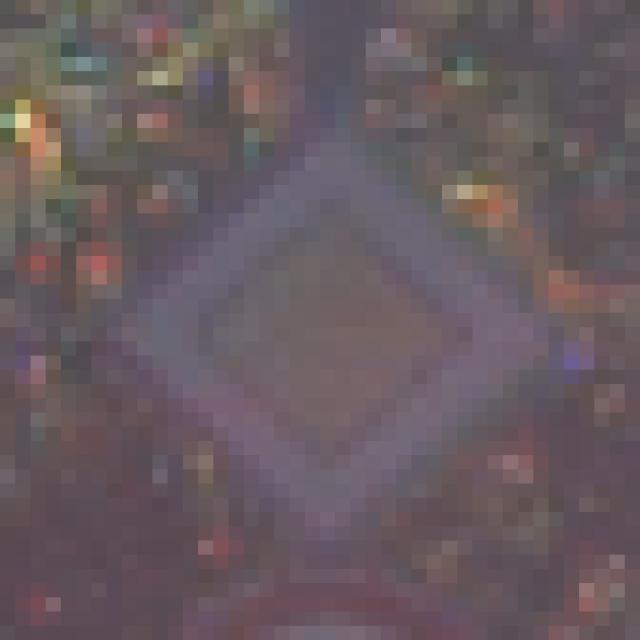Main Road: (93, 86, 550, 556)
